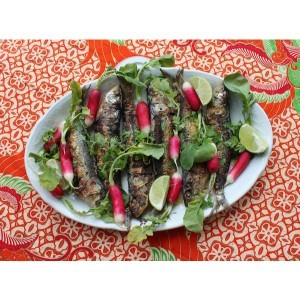sardine_brain food: (68, 75, 233, 207)
